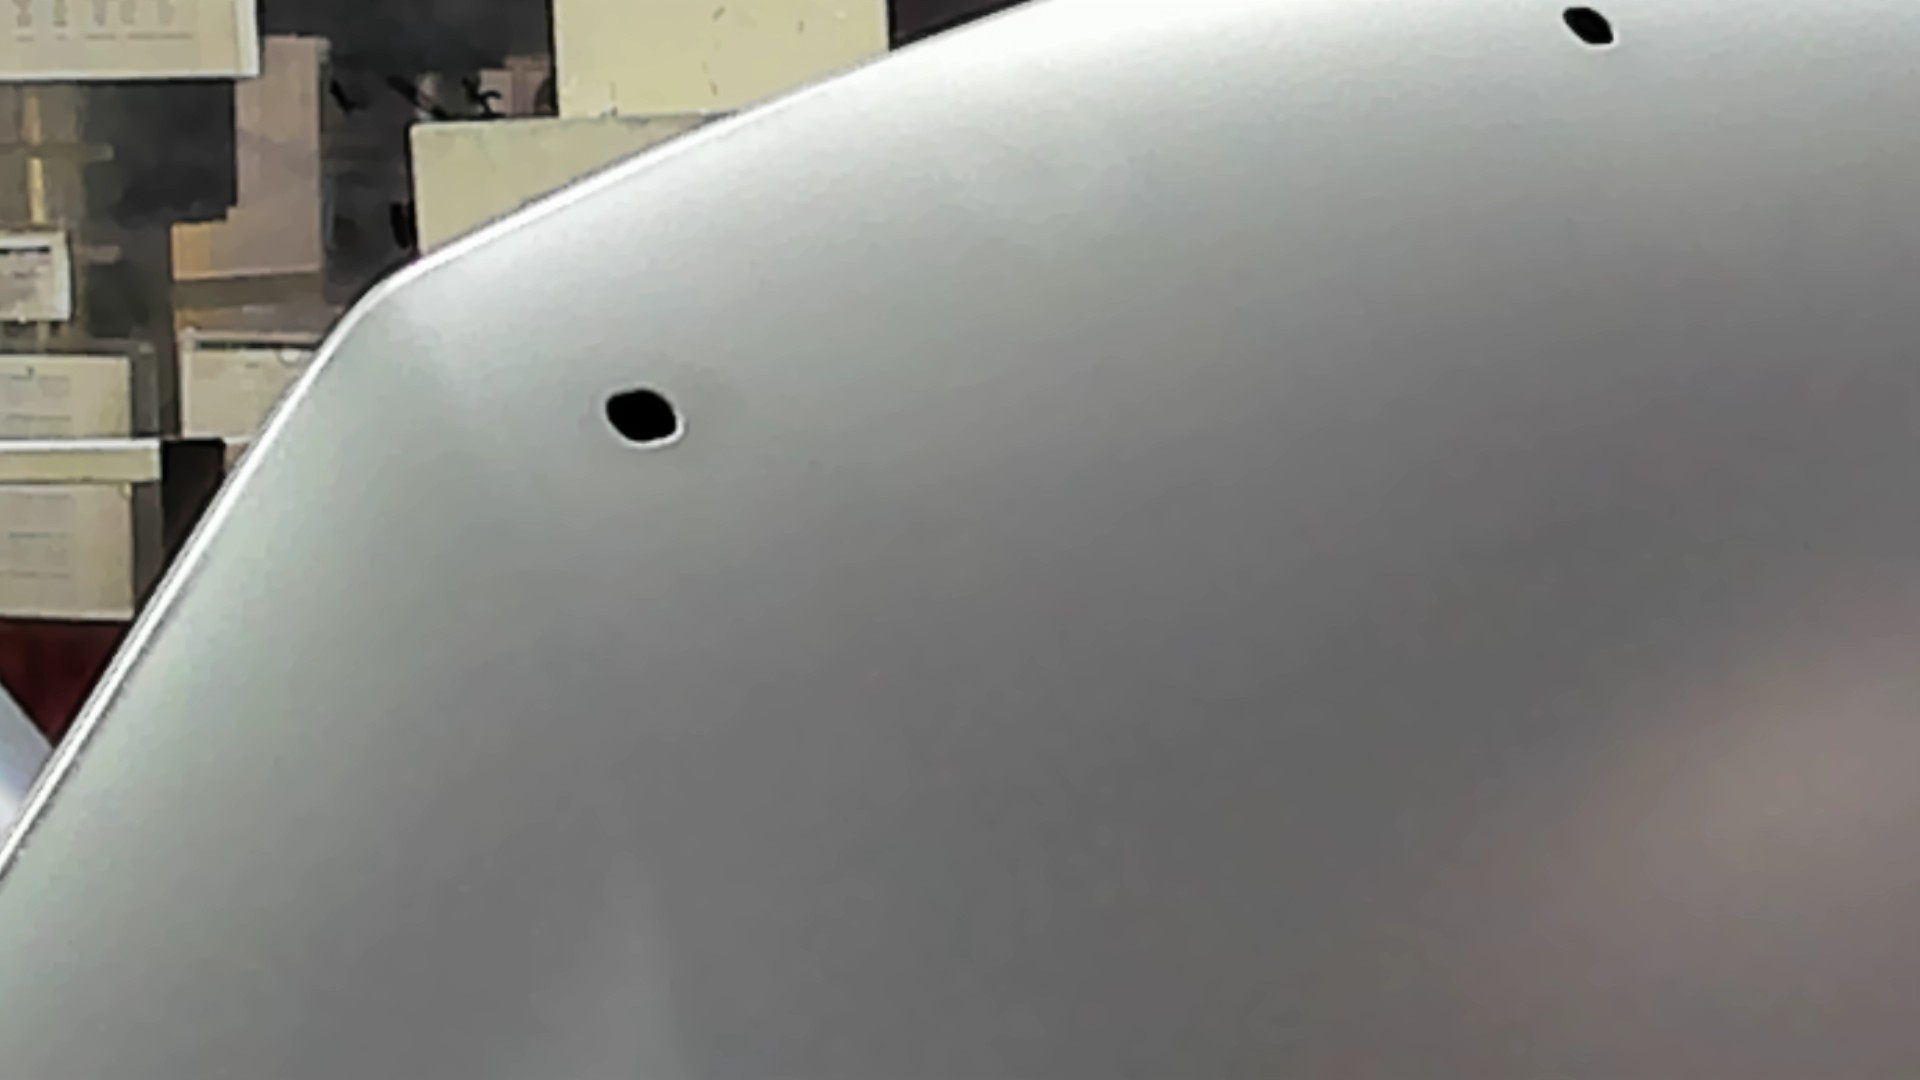amorfo: (593, 382, 688, 455), (1557, 1, 1625, 55)
